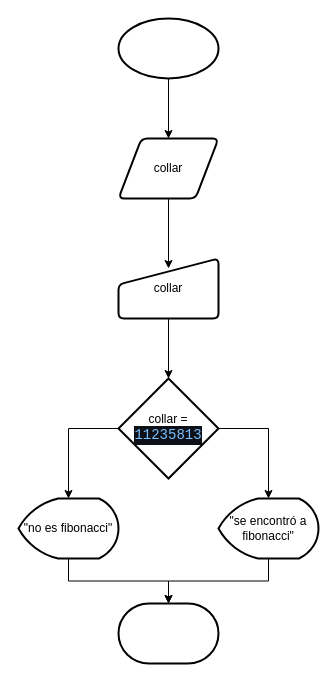
The diagram is 336 pixels wide and 681 high, and some of its shapes have lost their labels. The shapes that lost their labels are listed below. From the top down, each one's centre as x and y in pixels, then its label:
At (168,48): "Inicio".
At (168,633): "Fin".
